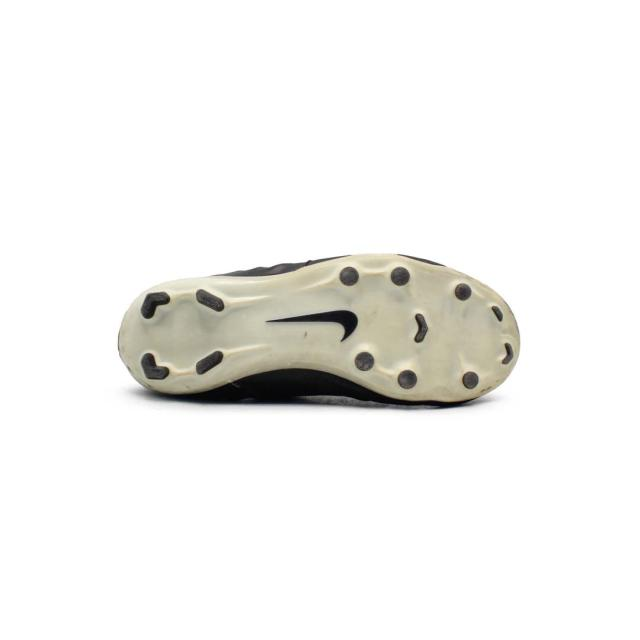outersole: (114, 258, 520, 408)
